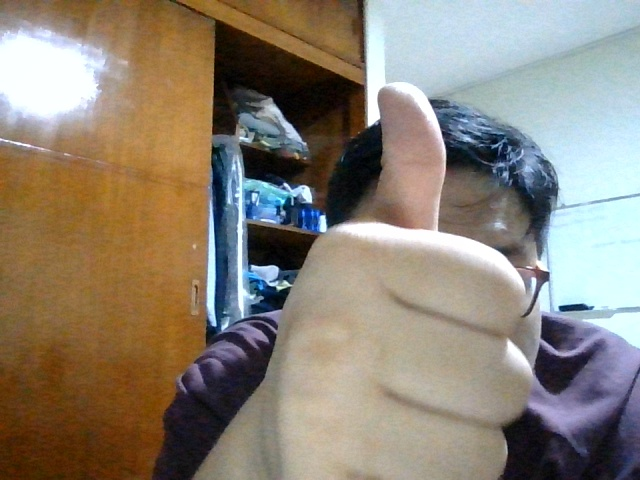si: (256, 82, 541, 479)
